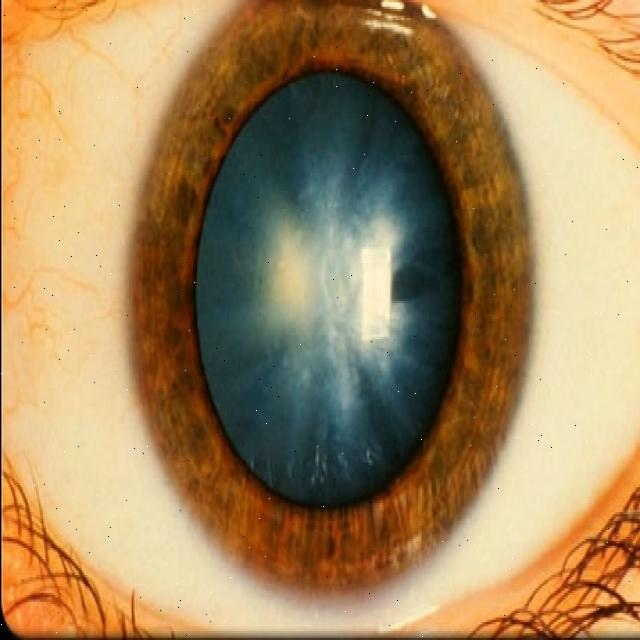Cataract: (131, 0, 539, 605)
